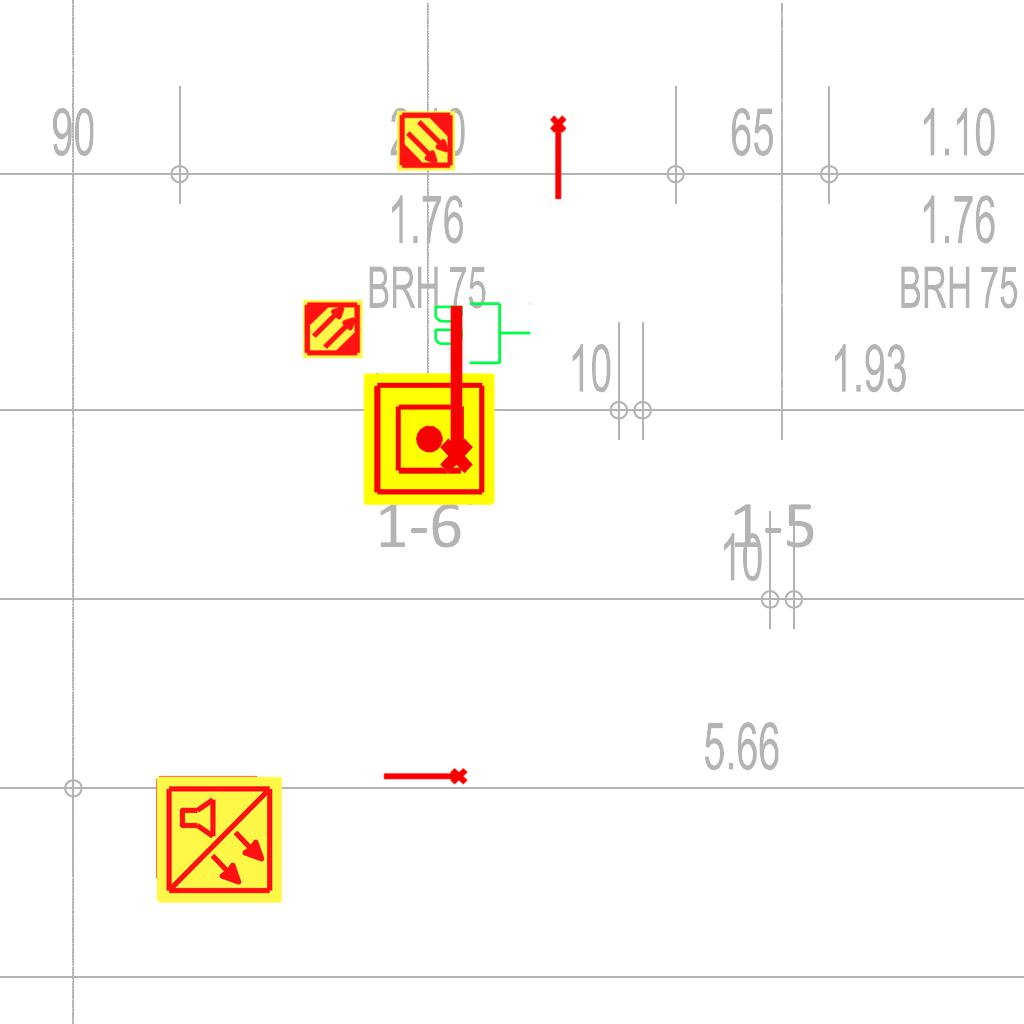ASR_Ansaugoeffnung: (431, 300, 477, 476), (381, 766, 469, 789), (548, 114, 571, 202)
ASR_Ansaugrauchmelder: (302, 298, 364, 360), (395, 110, 457, 172)
Datenanschluss_zweifach: (430, 298, 533, 367)
NAM-Nichtautomatischer_Melder: (363, 373, 495, 505)
OKW_Multisensormelder_(Kombination_optischer_Rauch-Kahlenmonoxid_Waerme-Melder): (153, 774, 285, 906)
